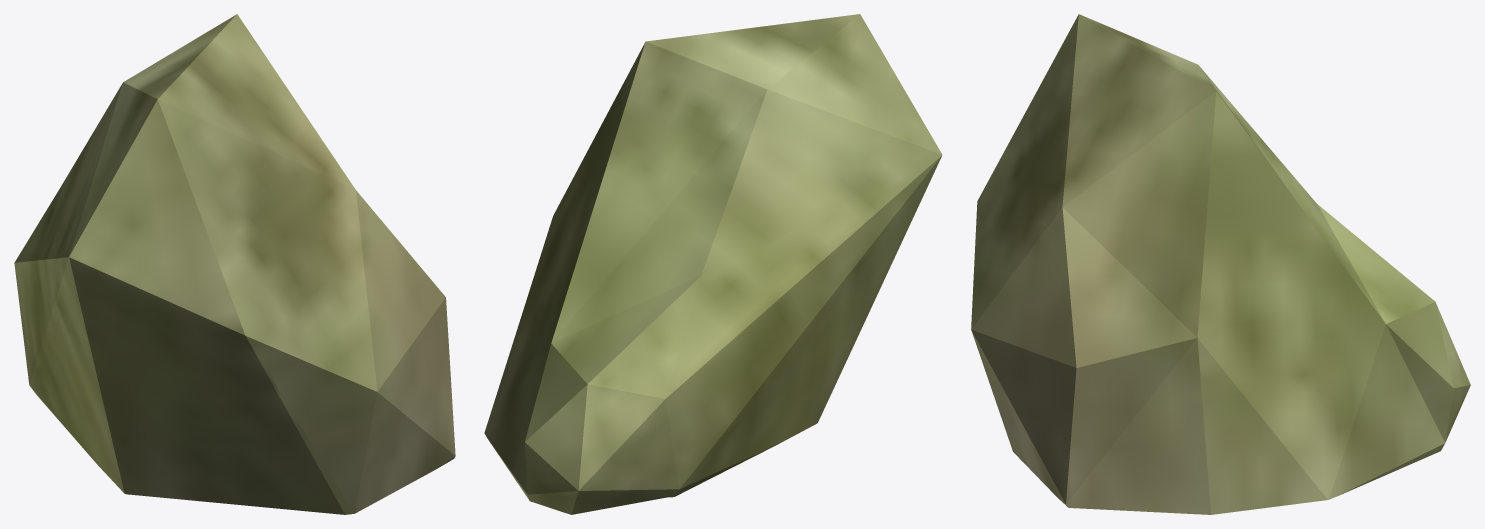
3 views of the same model, side by side, from view 1: azimuth 30°, elevation 25°; view 2: azimuth 150°, elevation 25°; view 3: azimuth 270°, elevation 25° (orthographic). The views are drawn at different scales.
Size of the model in its own units: 0.2466 by 0.2521 by 0.3083.
1 material, 1 textured.
